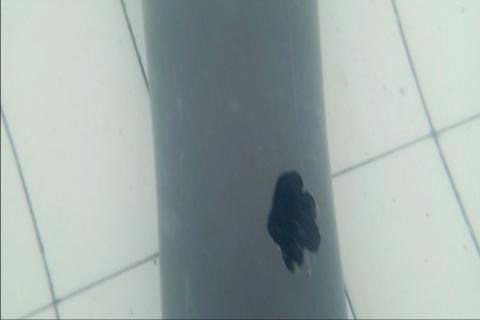kebocoran: (265, 167, 322, 277)
